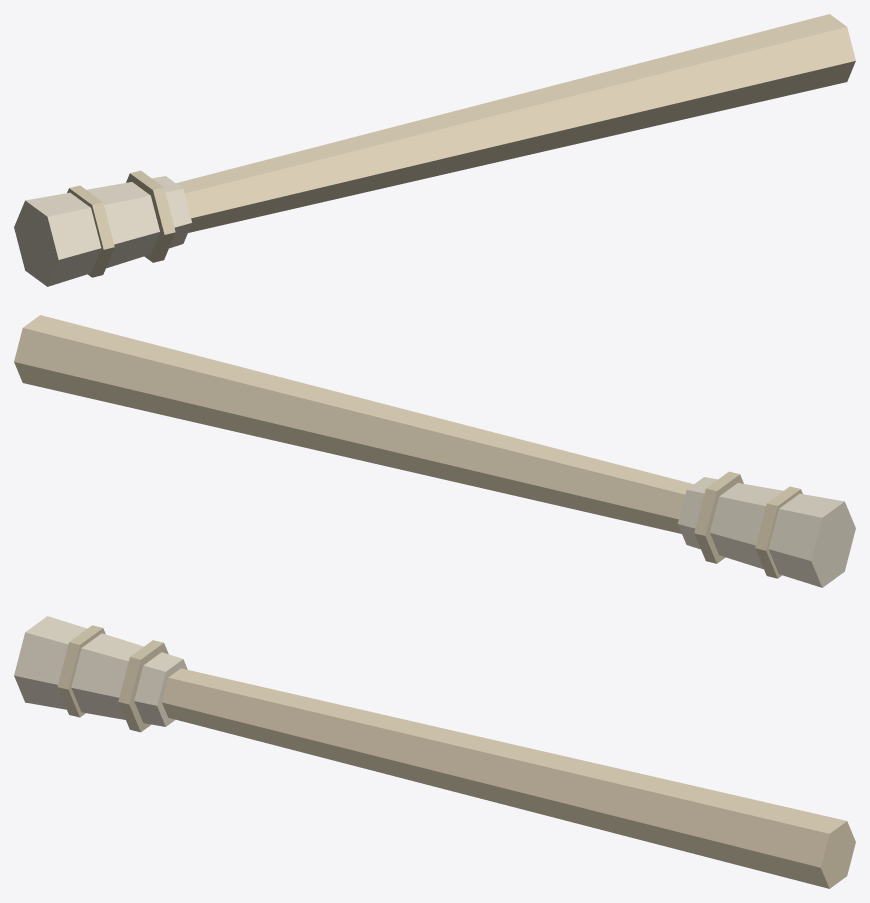
File: prop-hog-brush-blank.fbx
3 renders of one model, top to bottom at view 1: azimuth 30°, elevation 25°; view 2: azimuth 150°, elevation 25°; view 3: azimuth 330°, elevation 25°, orthographic.
Parts seen in each view (by area): view 1: prop-hog-brush-blank; view 2: prop-hog-brush-blank; view 3: prop-hog-brush-blank.
Boxes of the visible parts, x1,y1,x2,y2 form: prop-hog-brush-blank: (14,14,855,286); prop-hog-brush-blank: (14,315,855,587); prop-hog-brush-blank: (14,616,855,888).
Bounding box in the file's own units: 29 × 2.51 × 2.9.
